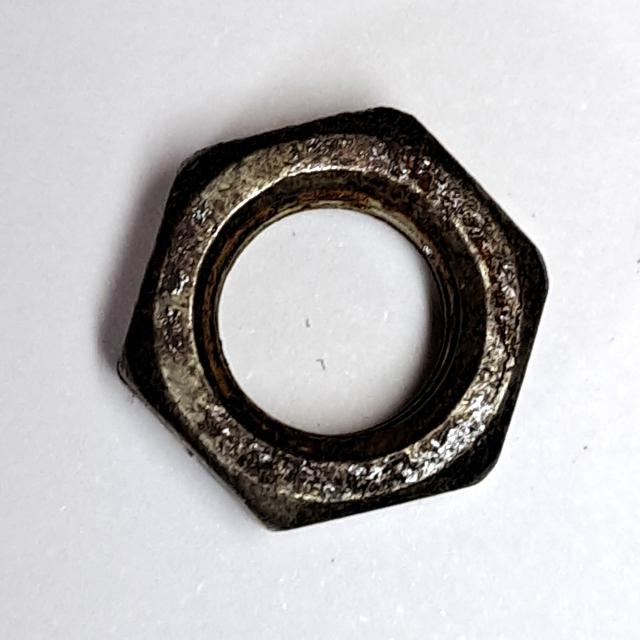Rust: (105, 96, 557, 544)
